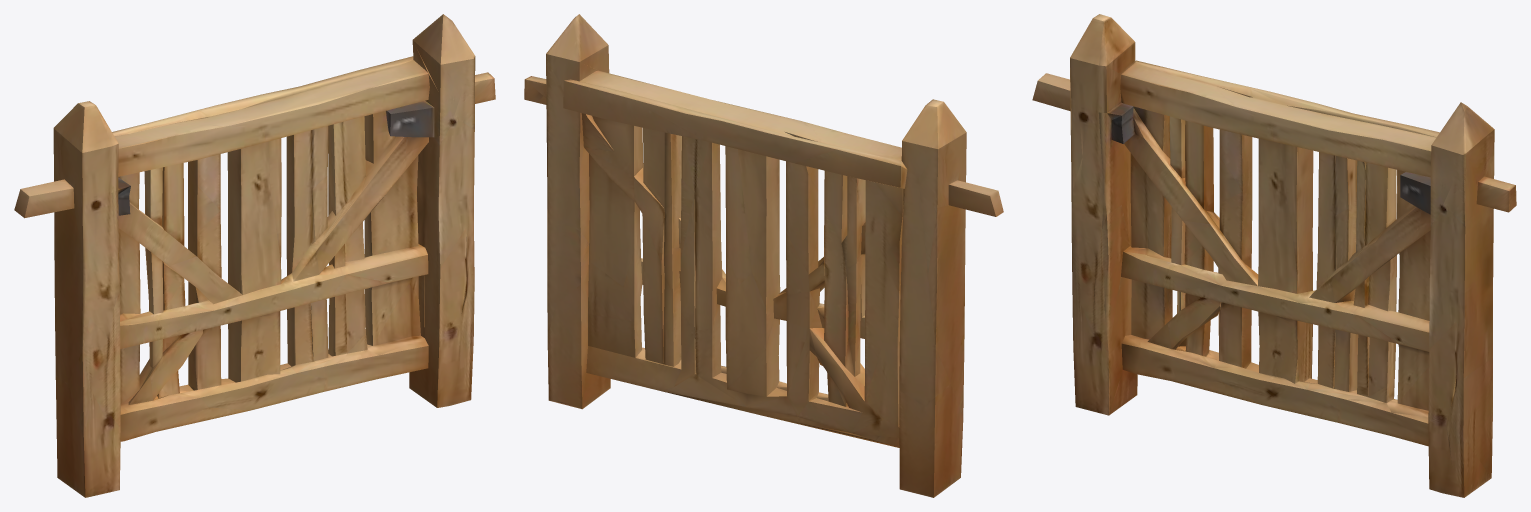
The model's file is farmGate.glb.
The picture shows the model from 3 angles, left to right: view 1: azimuth 30°, elevation 25°; view 2: azimuth 150°, elevation 25°; view 3: azimuth 330°, elevation 25°; orthographic projection.
Parts seen in each view (by area): view 1: model; view 2: model; view 3: model.
Boxes of the visible parts, box(x1,y1,x2,y2) form: model: box(14, 14, 495, 497); model: box(524, 14, 1003, 497); model: box(1032, 14, 1516, 497).
Size of the model in its own units: 1.9 by 1.47 by 0.2336.
1 material, 1 textured.
